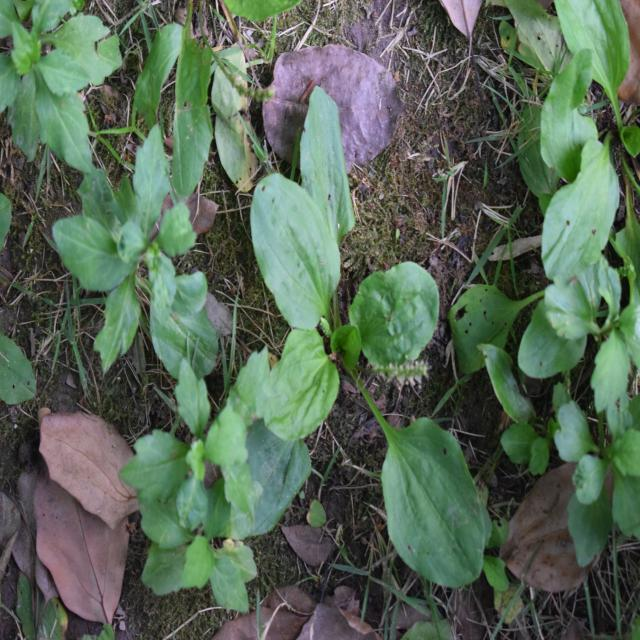plantain: (263, 151, 489, 568)
